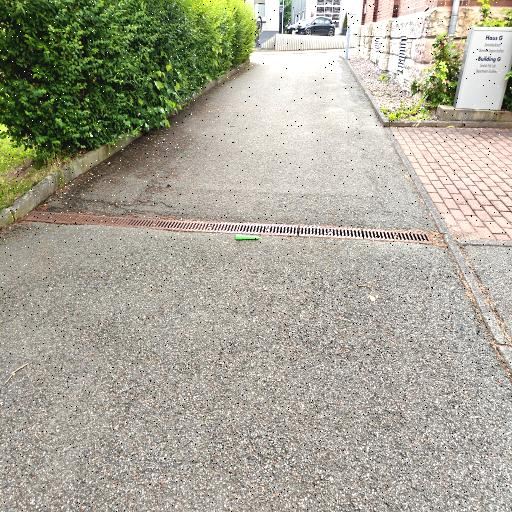Probe-Detection: (235, 234, 260, 240)
